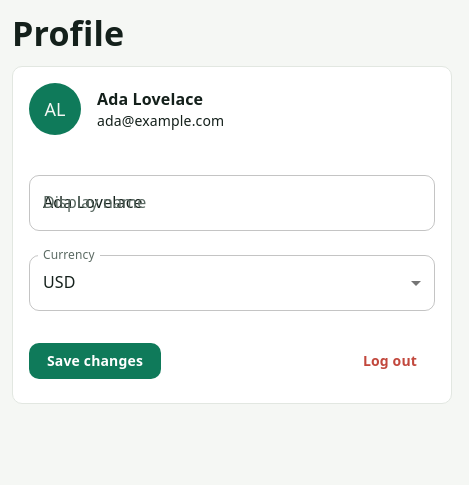
Scenario: ProfilePage › prefills the form and saves an update
Replace the text in the field showing "Ada Lovelace" with "Ada L" at (232, 203), box [29,175,435,231]
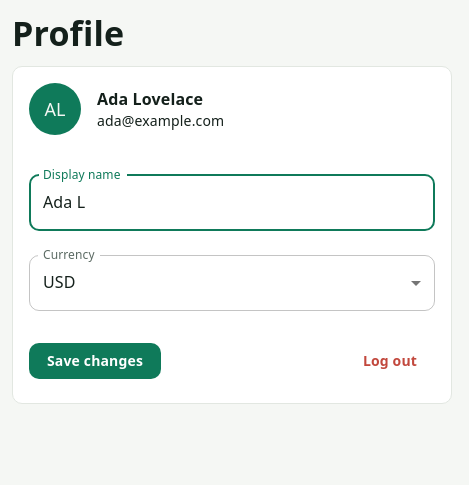
Click the button "Save changes" at (95, 361), box [29,343,161,379]
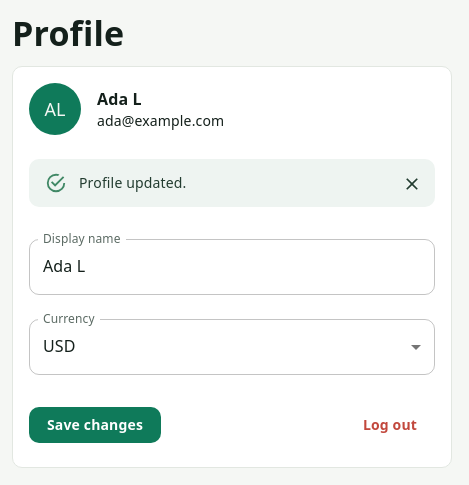
expect the text "Profile updated." is shown: met, box [79,173,186,192]
